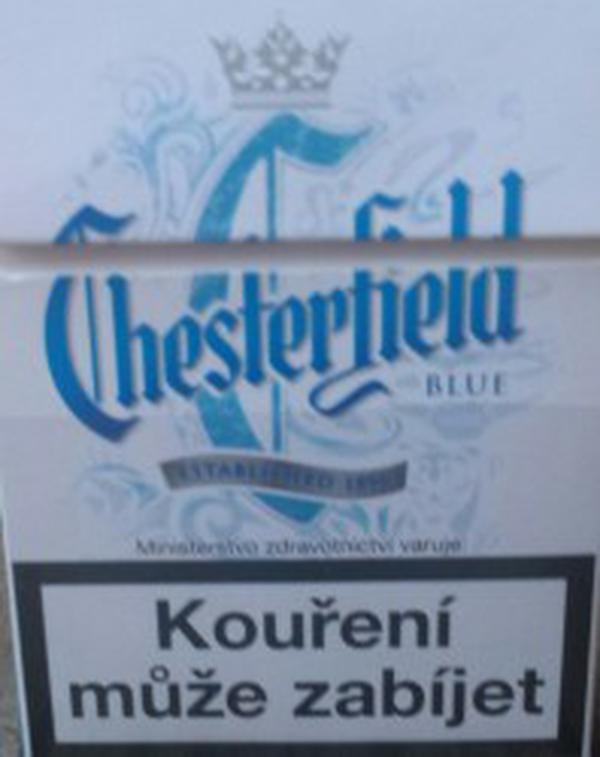chesterfield_blue: (16, 1, 581, 754)
